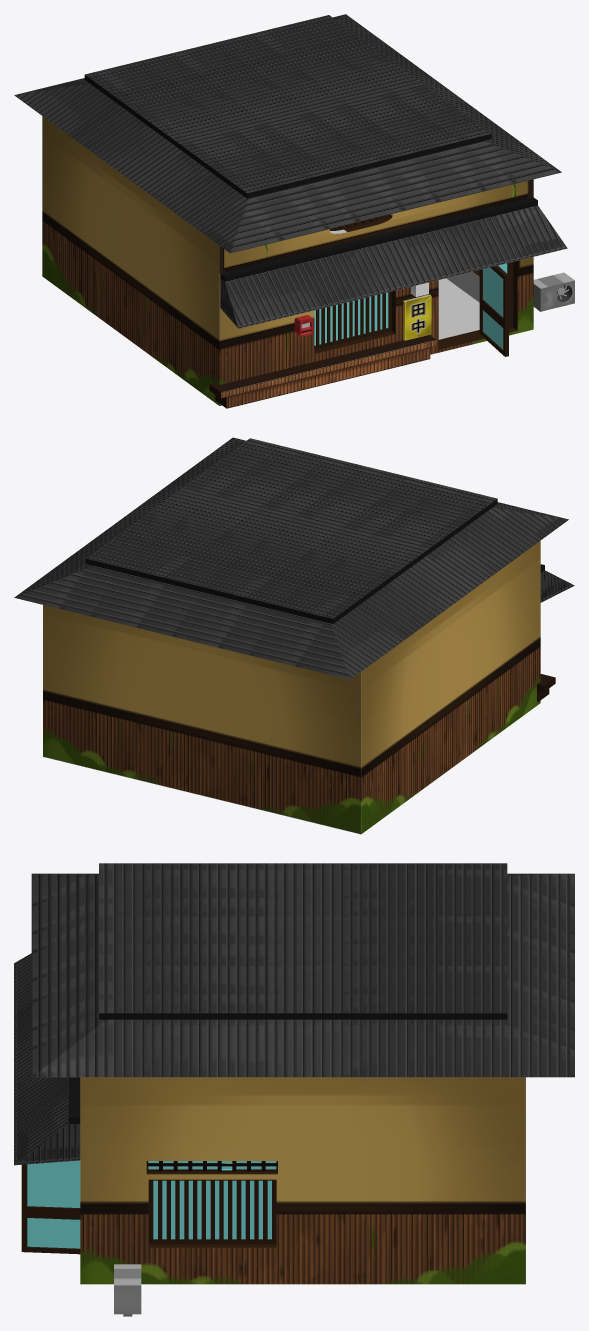
Rendered from House_Tanaka.fbx.
3 views of the same model, one above another, from view 1: azimuth 30°, elevation 25°; view 2: azimuth 150°, elevation 25°; view 3: azimuth 270°, elevation 25° (orthographic). The views are drawn at different scales.
Visible parts, largest first — view 1: Top, building, Cube.015, Cube.030, Cube.014, Cube.011, Cube.008, Cube.016; view 2: building, Top, Cube.015; view 3: Top, building, Cube.019, Cube.015, Cube.011, Cube.013, Cube.008.
Part boxes in pixels (bbox=[...]): Top: bbox=[14, 14, 561, 253]; building: bbox=[42, 116, 533, 405]; Cube.015: bbox=[220, 197, 567, 328]; Cube.030: bbox=[209, 335, 436, 408]; Cube.014: bbox=[314, 291, 391, 349]; Cube.011: bbox=[479, 265, 508, 356]; Cube.008: bbox=[533, 272, 574, 311]; Cube.016: bbox=[403, 294, 431, 340]; building: bbox=[43, 541, 540, 834]; Top: bbox=[14, 437, 568, 679]; Cube.015: bbox=[540, 564, 574, 602]; Top: bbox=[31, 863, 574, 1077]; building: bbox=[80, 1077, 525, 1284]; Cube.019: bbox=[148, 1179, 276, 1244]; Cube.015: bbox=[14, 953, 80, 1165]; Cube.011: bbox=[21, 1160, 80, 1254]; Cube.013: bbox=[146, 1161, 277, 1171]; Cube.008: bbox=[114, 1264, 141, 1316].
Bounding box in the file's own units: 1609 × 812 × 1647.
